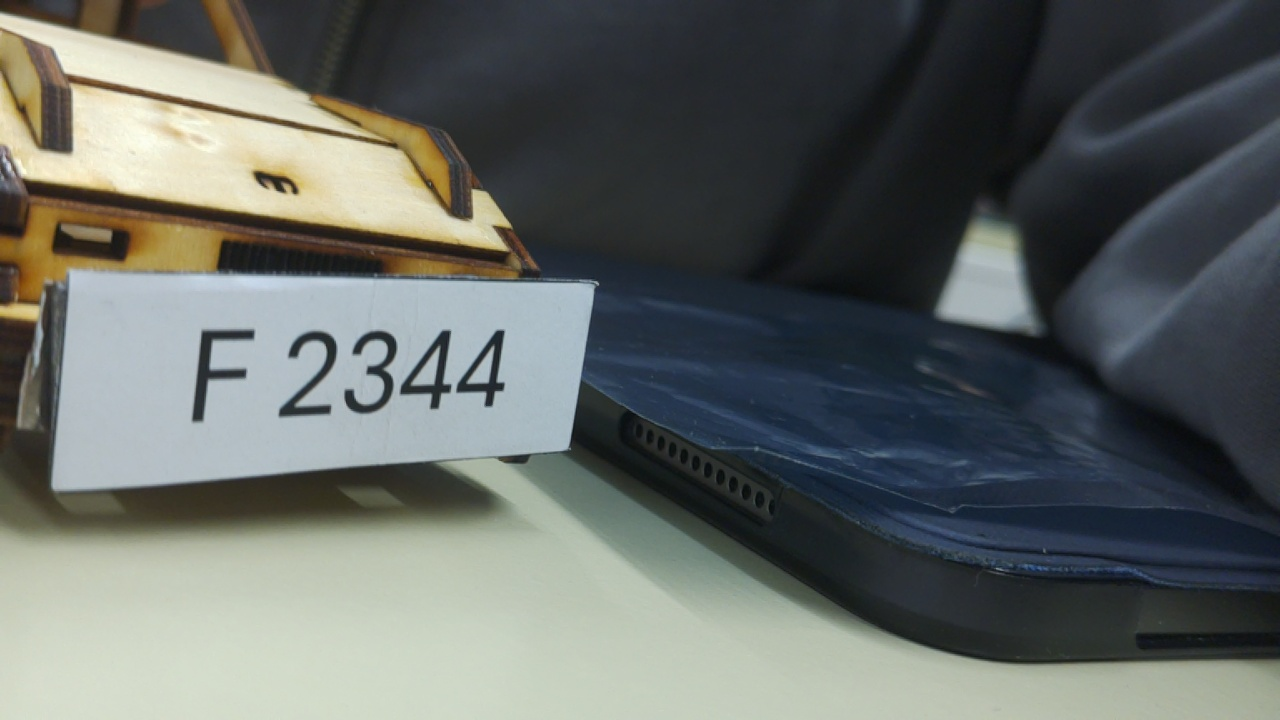license_plate: (32, 245, 605, 506)
